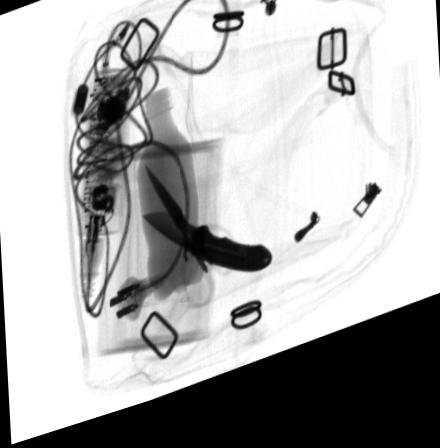Knife: (141, 222, 271, 291)
Scissors: (145, 173, 242, 317)
